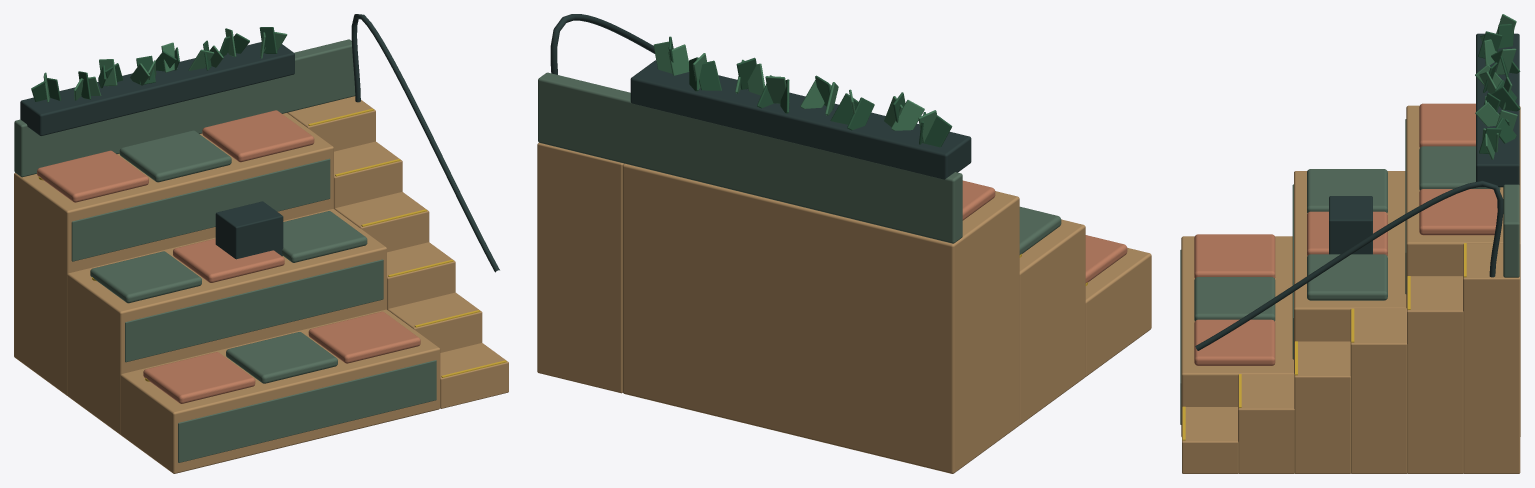
The model's file is campus-bleacher-nordic.glb.
3 views of the same model, side by side, from view 1: azimuth 30°, elevation 25°; view 2: azimuth 150°, elevation 25°; view 3: azimuth 270°, elevation 25° (orthographic). The views are drawn at different scales.
Bounding box in the file's own units: 2.25 × 1.81 × 1.87.
